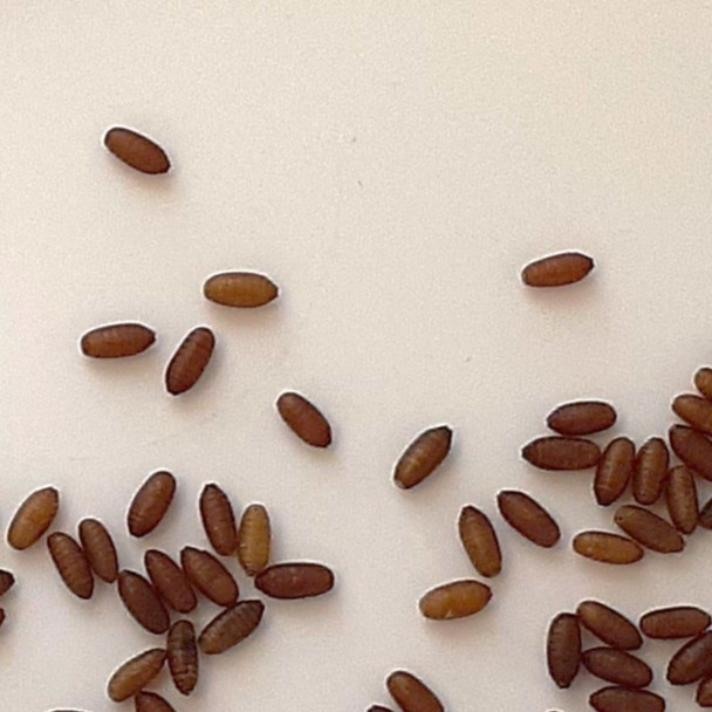pupae: (160, 323, 219, 405), (269, 384, 337, 454), (608, 500, 690, 558), (118, 468, 182, 542), (494, 488, 566, 552), (388, 422, 455, 490), (99, 126, 178, 181), (572, 596, 644, 656), (5, 482, 63, 556), (114, 570, 172, 640), (589, 436, 639, 514), (456, 504, 506, 580), (176, 543, 236, 606), (46, 529, 95, 606), (417, 580, 499, 626), (104, 645, 166, 705), (254, 560, 342, 602), (195, 479, 243, 556), (518, 247, 598, 293), (142, 548, 196, 616), (576, 644, 656, 688), (203, 596, 263, 654), (201, 268, 283, 310), (514, 432, 600, 472), (75, 320, 159, 360), (544, 609, 584, 693), (658, 460, 702, 536), (660, 627, 712, 691), (573, 528, 645, 574), (542, 394, 620, 436), (73, 516, 121, 584), (630, 434, 674, 506), (634, 600, 712, 640), (238, 503, 278, 579), (662, 426, 712, 482), (383, 668, 445, 712), (167, 616, 199, 700), (585, 682, 669, 712), (666, 389, 712, 435)
